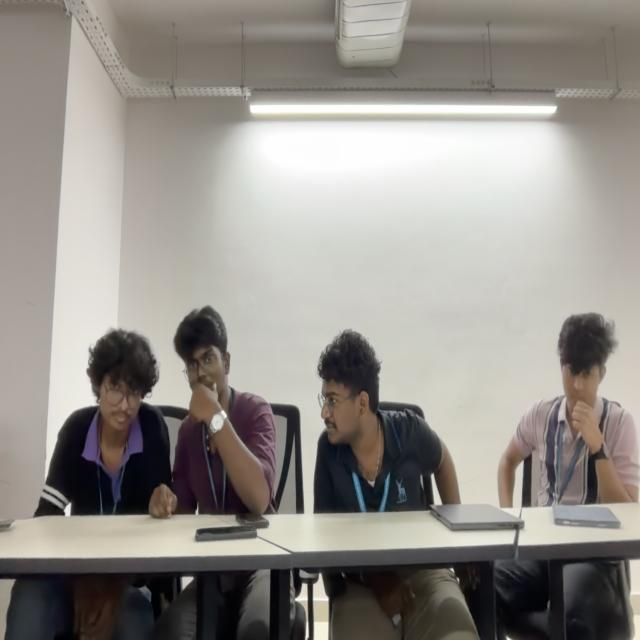Isolated: (497, 311, 638, 503)
socializing: (37, 304, 460, 511)
